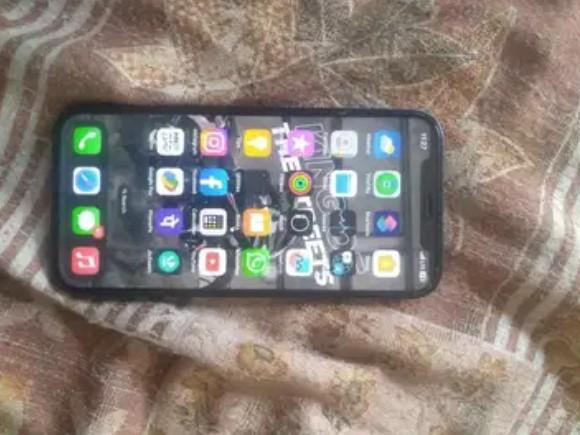Smart Phone: (45, 105, 446, 303)
